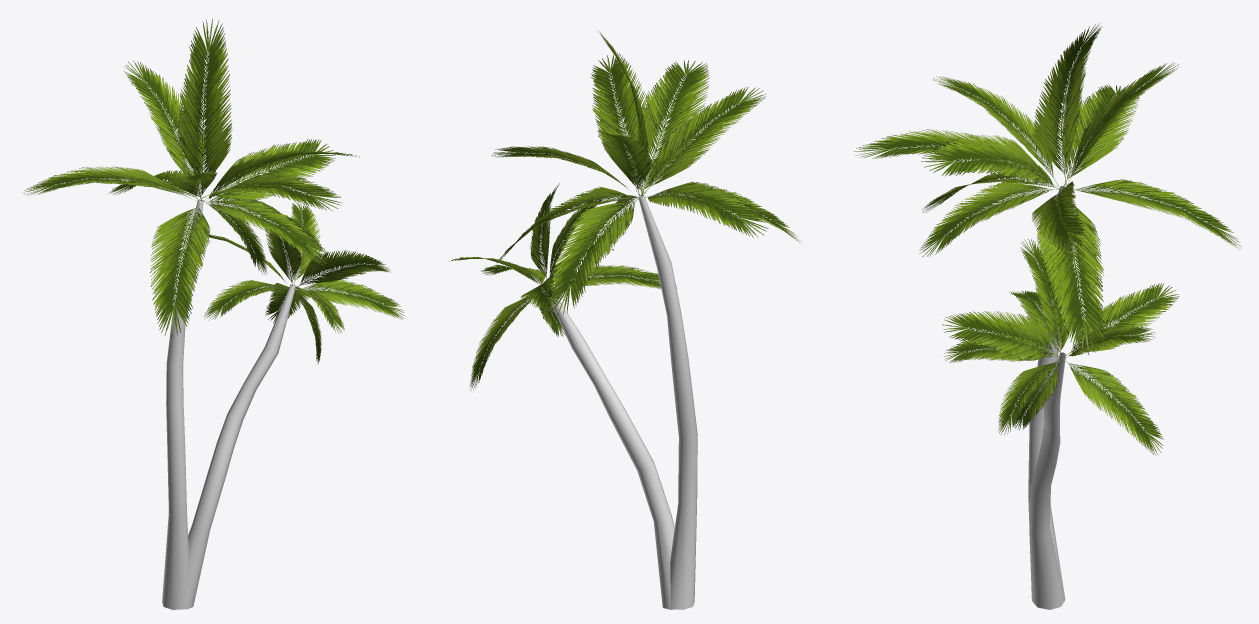
The model's file is CoconutTree3.fbx.
3 renders of one model, left to right at view 1: azimuth 30°, elevation 25°; view 2: azimuth 150°, elevation 25°; view 3: azimuth 270°, elevation 25°, orthographic. The views are drawn at different scales.
Parts seen in each view (by area): view 1: CoconutTree3; view 2: CoconutTree3; view 3: CoconutTree3.
Boxes of the visible parts, <box> form: CoconutTree3: <box>23,19,404,609</box>; CoconutTree3: <box>449,31,800,609</box>; CoconutTree3: <box>854,24,1240,609</box>.
Size of the model in its own units: 787 by 1230 by 731.
